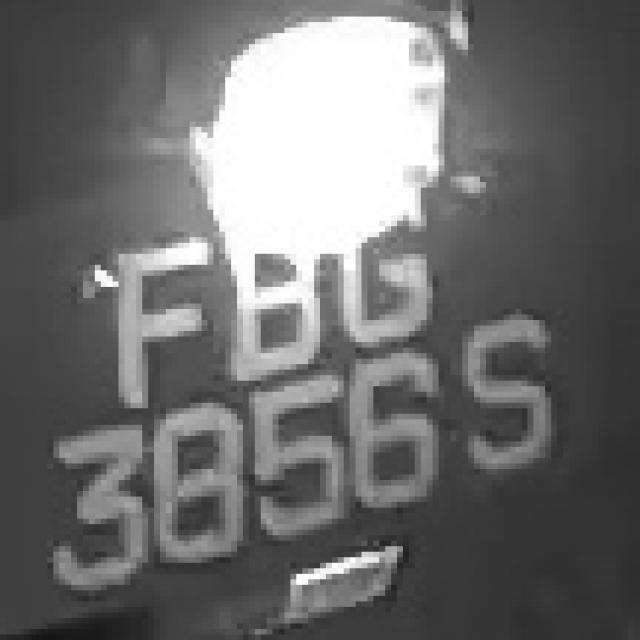3: (59, 425, 148, 607)
5: (231, 375, 344, 535)
6: (338, 342, 450, 513)
8: (130, 392, 255, 574)
B: (195, 226, 338, 392)
F: (89, 210, 213, 419)
G: (344, 165, 456, 358)
S: (444, 298, 557, 469)
